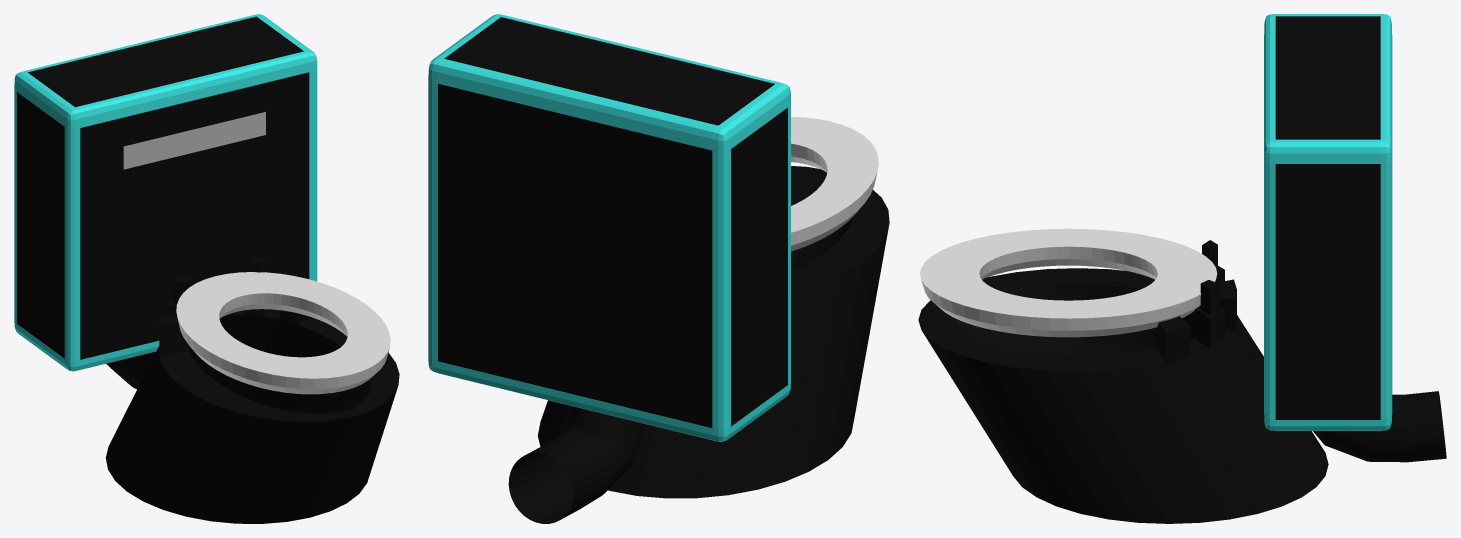
Rendered from ggj2019toilet.fbx.
The picture shows the model from 3 angles, left to right: view 1: azimuth 30°, elevation 25°; view 2: azimuth 150°, elevation 25°; view 3: azimuth 270°, elevation 25°; orthographic projection. The views are drawn at different scales.
Parts seen in each view (by area): view 1: Cube, Cylinder.002, Torus, Cylinder.000, Cylinder.001; view 2: Cube, Cylinder.002, Cylinder.001, Torus; view 3: Cylinder.002, Cube, Torus, Cylinder.001, Cylinder.000.
Part boxes in pixels (bbox=[...]): Cube: bbox=[14, 14, 317, 371]; Cylinder.002: bbox=[106, 309, 399, 523]; Torus: bbox=[176, 272, 390, 394]; Cylinder.000: bbox=[159, 257, 312, 354]; Cylinder.001: bbox=[106, 351, 155, 389]; Cube: bbox=[428, 14, 790, 441]; Cylinder.002: bbox=[537, 166, 889, 498]; Cylinder.001: bbox=[508, 407, 645, 523]; Torus: bbox=[791, 117, 878, 251]; Cylinder.002: bbox=[918, 268, 1328, 523]; Cube: bbox=[1264, 14, 1392, 430]; Torus: bbox=[920, 228, 1217, 337]; Cylinder.001: bbox=[1313, 391, 1446, 462]; Cylinder.000: bbox=[1156, 240, 1236, 362].
Size of the model in its own units: 200 by 272 by 332.
